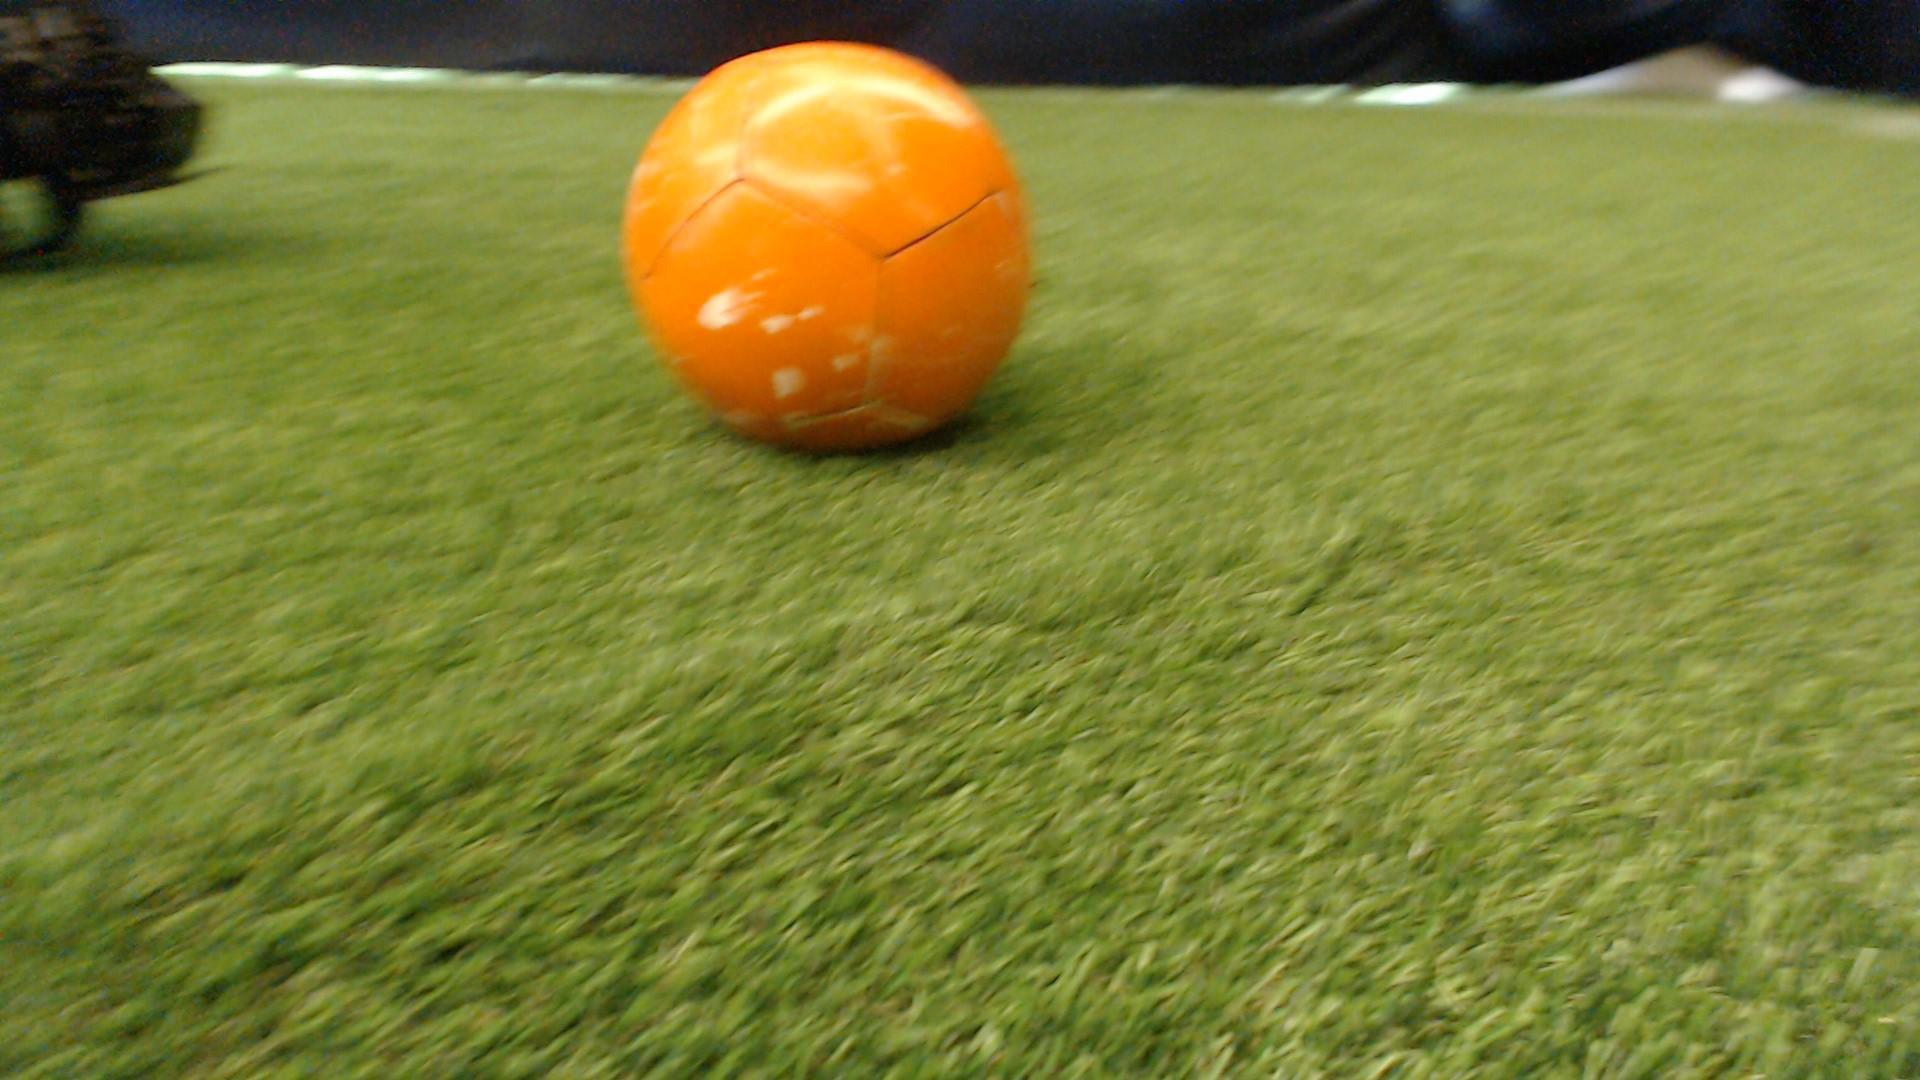bola: (587, 20, 1067, 475)
